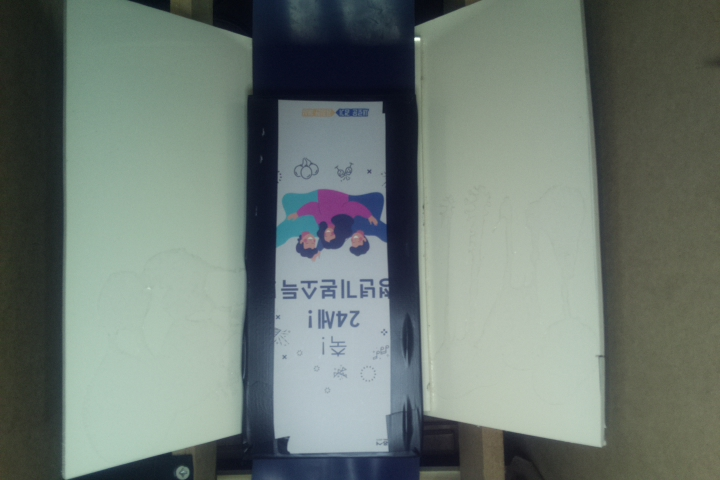book: (248, 89, 418, 460)
